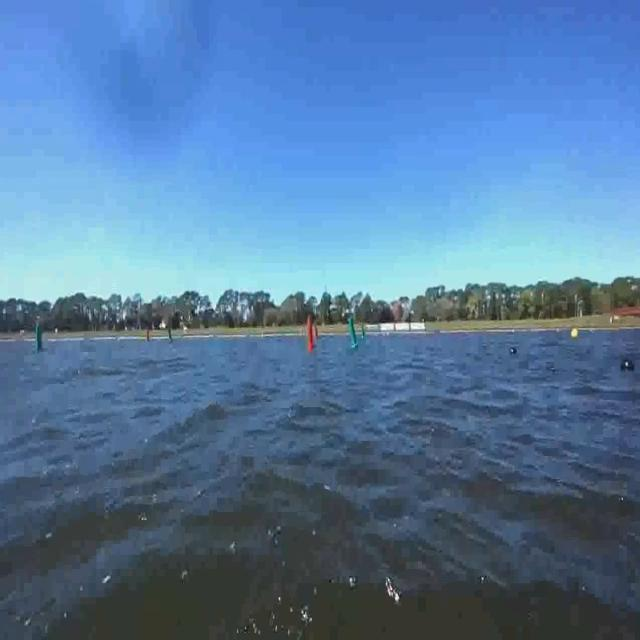black-buoy: (622, 358, 636, 372), (511, 346, 518, 356)
green-column-buoy: (348, 318, 360, 351), (32, 325, 43, 355), (168, 324, 175, 345), (361, 326, 366, 339)
red-column-buoy: (306, 321, 314, 352), (146, 327, 152, 342)
yellow-buoy: (570, 325, 579, 341)
